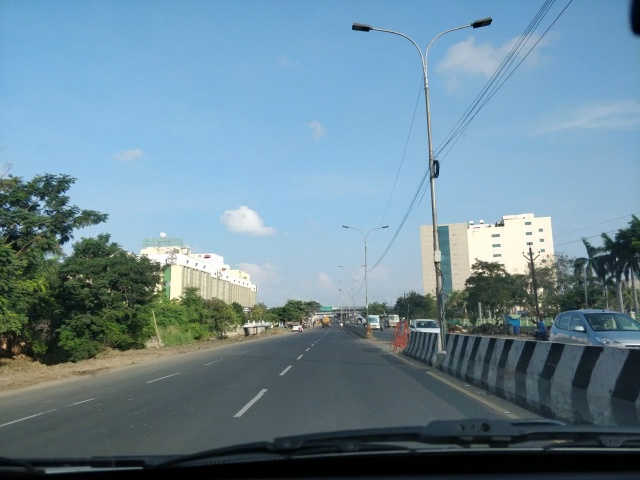bus: (386, 310, 402, 332), (366, 313, 383, 333)
car: (548, 309, 639, 387), (410, 317, 441, 345), (290, 321, 303, 333)
truck: (321, 315, 333, 329)
